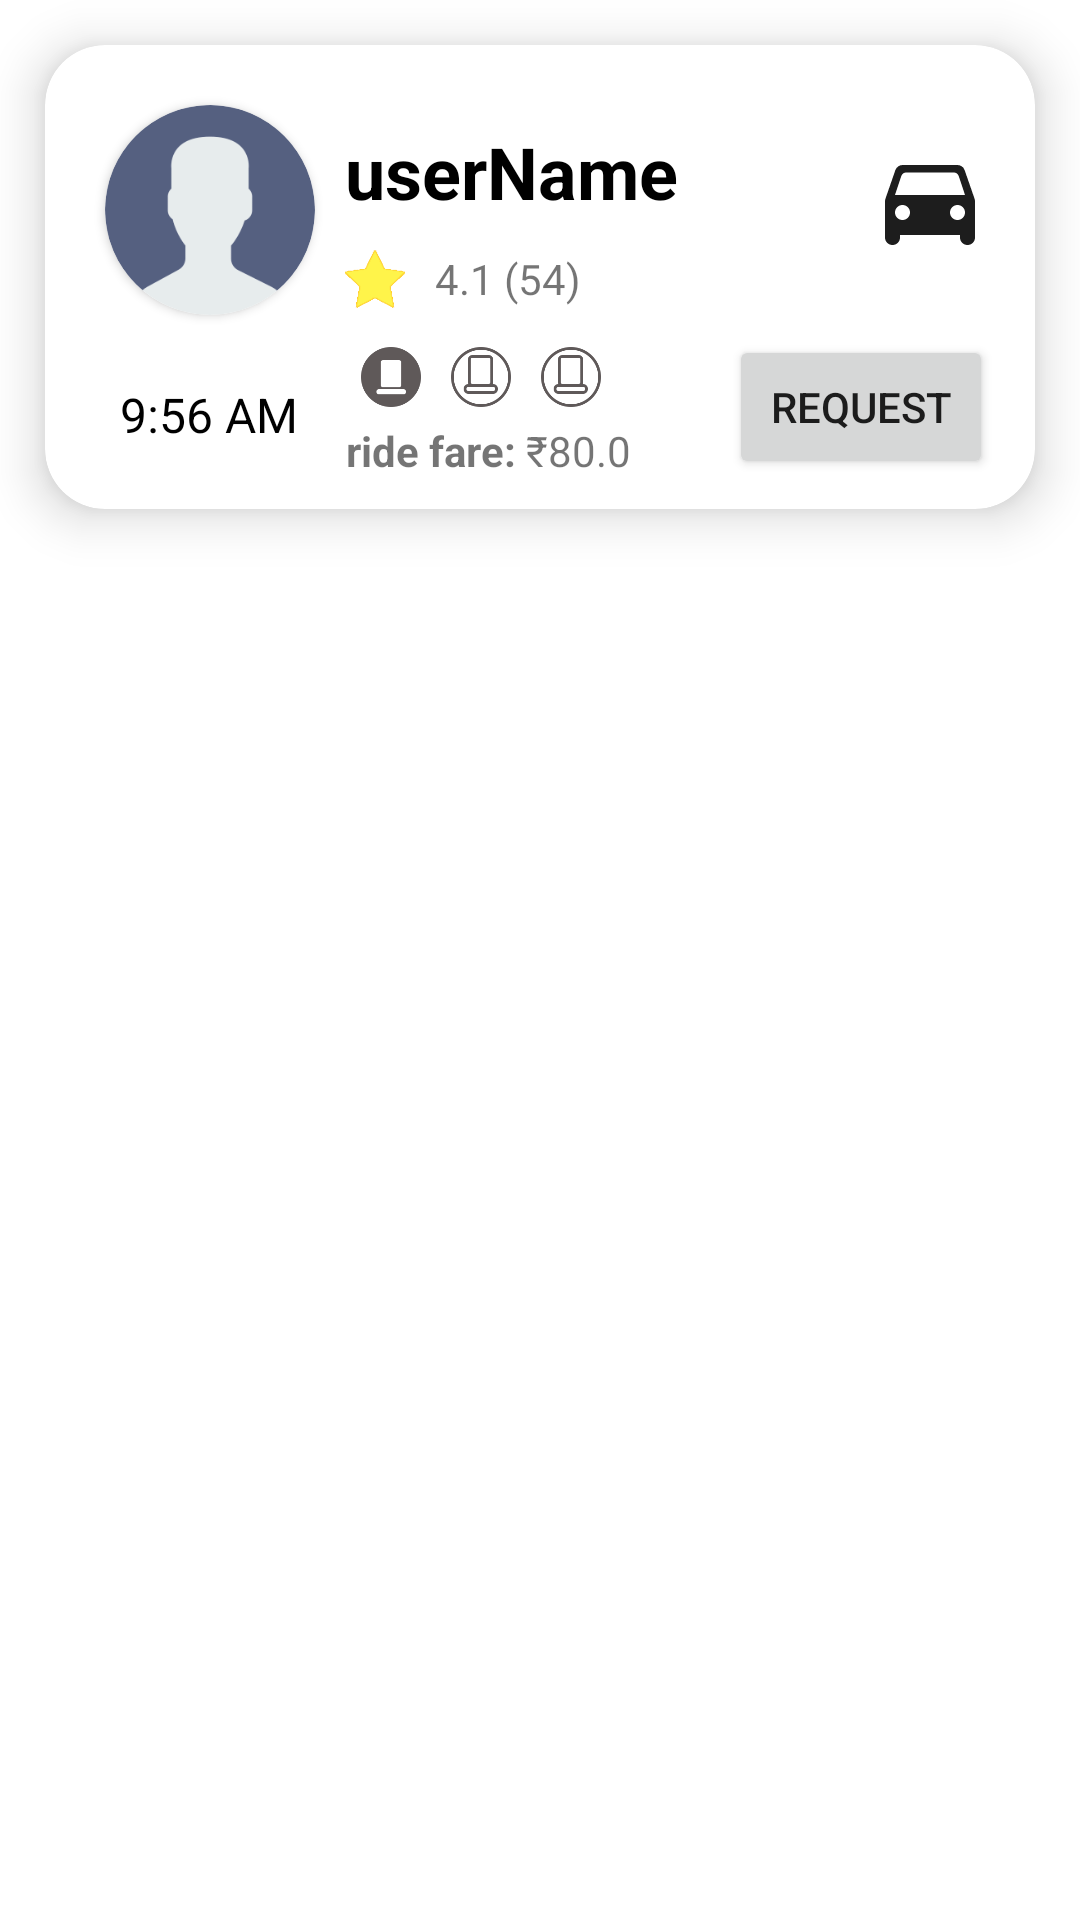

Icon bounding boxes for this 1080 × 1920 phone screenshot, format bbox=(x1, y1, x2, y2):
seat available: bbox=(451, 347, 511, 407), bbox=(541, 347, 601, 407)
seat not available: bbox=(361, 347, 421, 407)
